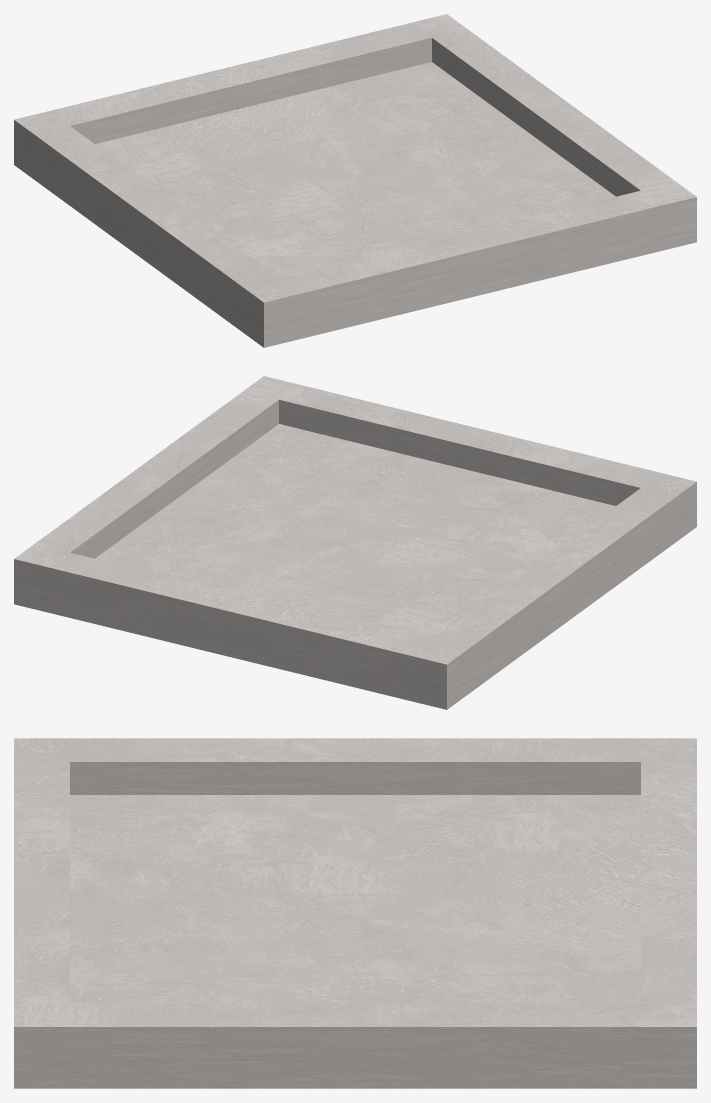
Rendered from roof02.glb.
3 views of the same model, one above another, from view 1: azimuth 30°, elevation 25°; view 2: azimuth 150°, elevation 25°; view 3: azimuth 270°, elevation 25° (orthographic). The views are drawn at different scales.
Visible parts, largest first — view 1: roof02; view 2: roof02; view 3: roof02.
Part boxes in pixels (box(x1,y1,x2,y2)): roof02: box(14, 14, 696, 347); roof02: box(14, 376, 696, 709); roof02: box(14, 738, 696, 1088).
Bounding box in the file's own units: 1 × 0.1 × 1.
1 material, 1 textured.
